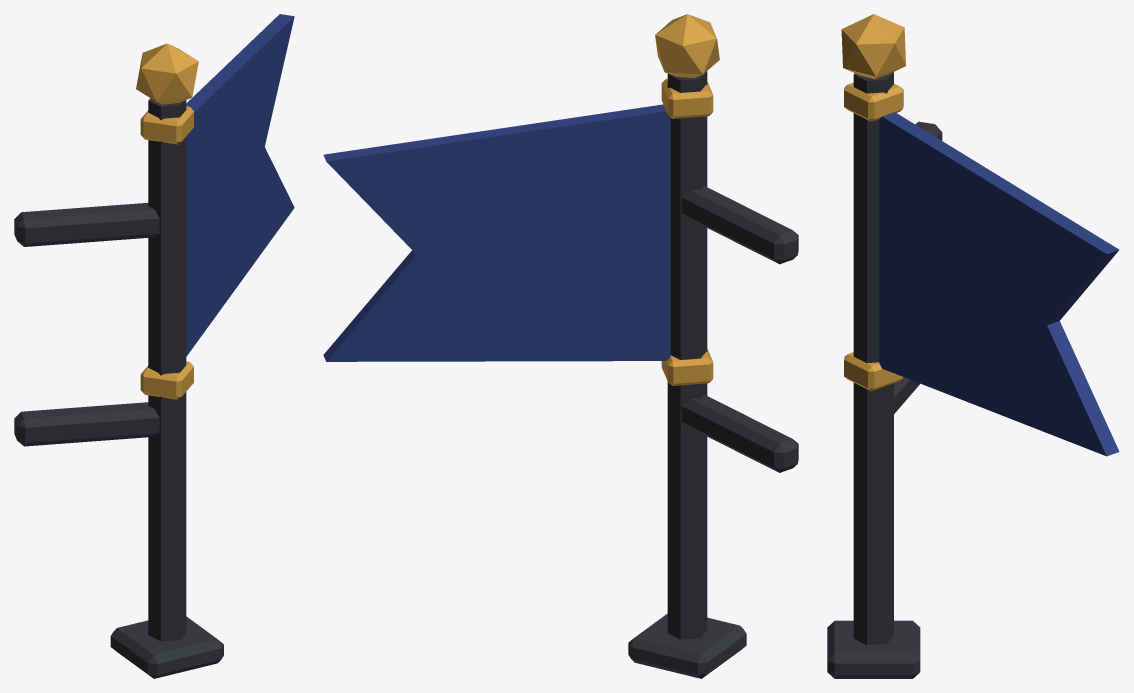
File: CannonKit7.obj
3 renders of one model, left to right at view 1: azimuth 30°, elevation 25°; view 2: azimuth 150°, elevation 25°; view 3: azimuth 270°, elevation 25°, orthographic. The views are drawn at different scales.
Parts seen in each view (by area): view 1: CannonKit7; view 2: CannonKit7; view 3: CannonKit7.
Part boxes in pixels (bbox=[...]): CannonKit7: bbox=[14, 14, 294, 678]; CannonKit7: bbox=[323, 14, 798, 678]; CannonKit7: bbox=[827, 14, 1119, 678].
Size of the model in its own units: 0.4795 by 0.77 by 0.3145.
